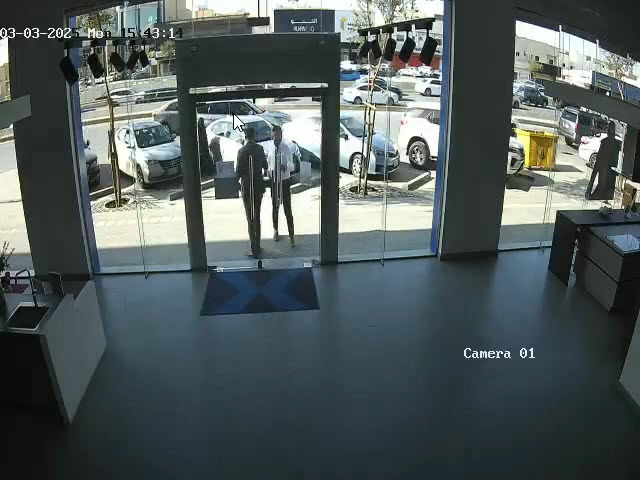employee: (263, 124, 298, 248), (236, 127, 269, 258)
